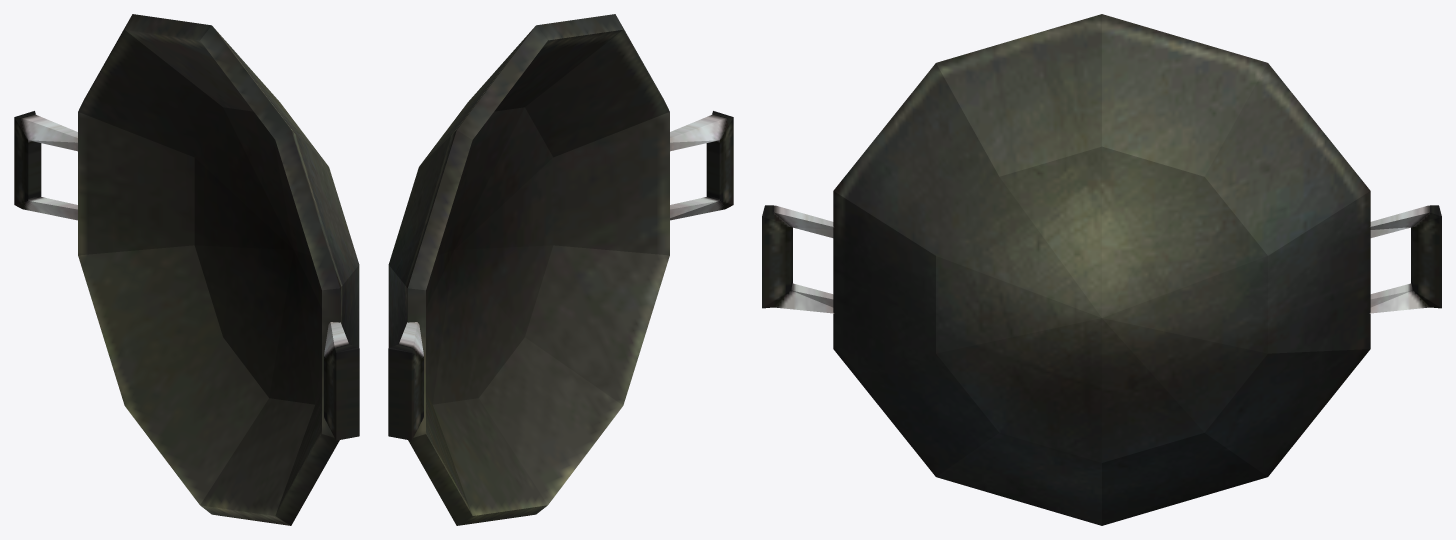
The model's file is Whale_chefWeapon_Shield.obj.
The picture shows the model from 3 angles, left to right: view 1: azimuth 30°, elevation 25°; view 2: azimuth 150°, elevation 25°; view 3: azimuth 270°, elevation 25°; orthographic projection. The views are drawn at different scales.
Parts seen in each view (by area): view 1: Whale_chefWeapon_tri [Shield]; view 2: Whale_chefWeapon_tri [Shield]; view 3: Whale_chefWeapon_tri [Shield].
Part boxes in pixels (bbox=[...]): Whale_chefWeapon_tri [Shield]: bbox=[14, 14, 359, 525]; Whale_chefWeapon_tri [Shield]: bbox=[388, 14, 733, 525]; Whale_chefWeapon_tri [Shield]: bbox=[762, 14, 1441, 525].
Size of the model in its own units: 0.362 by 1.29 by 1.56.
1 material, 1 textured.
